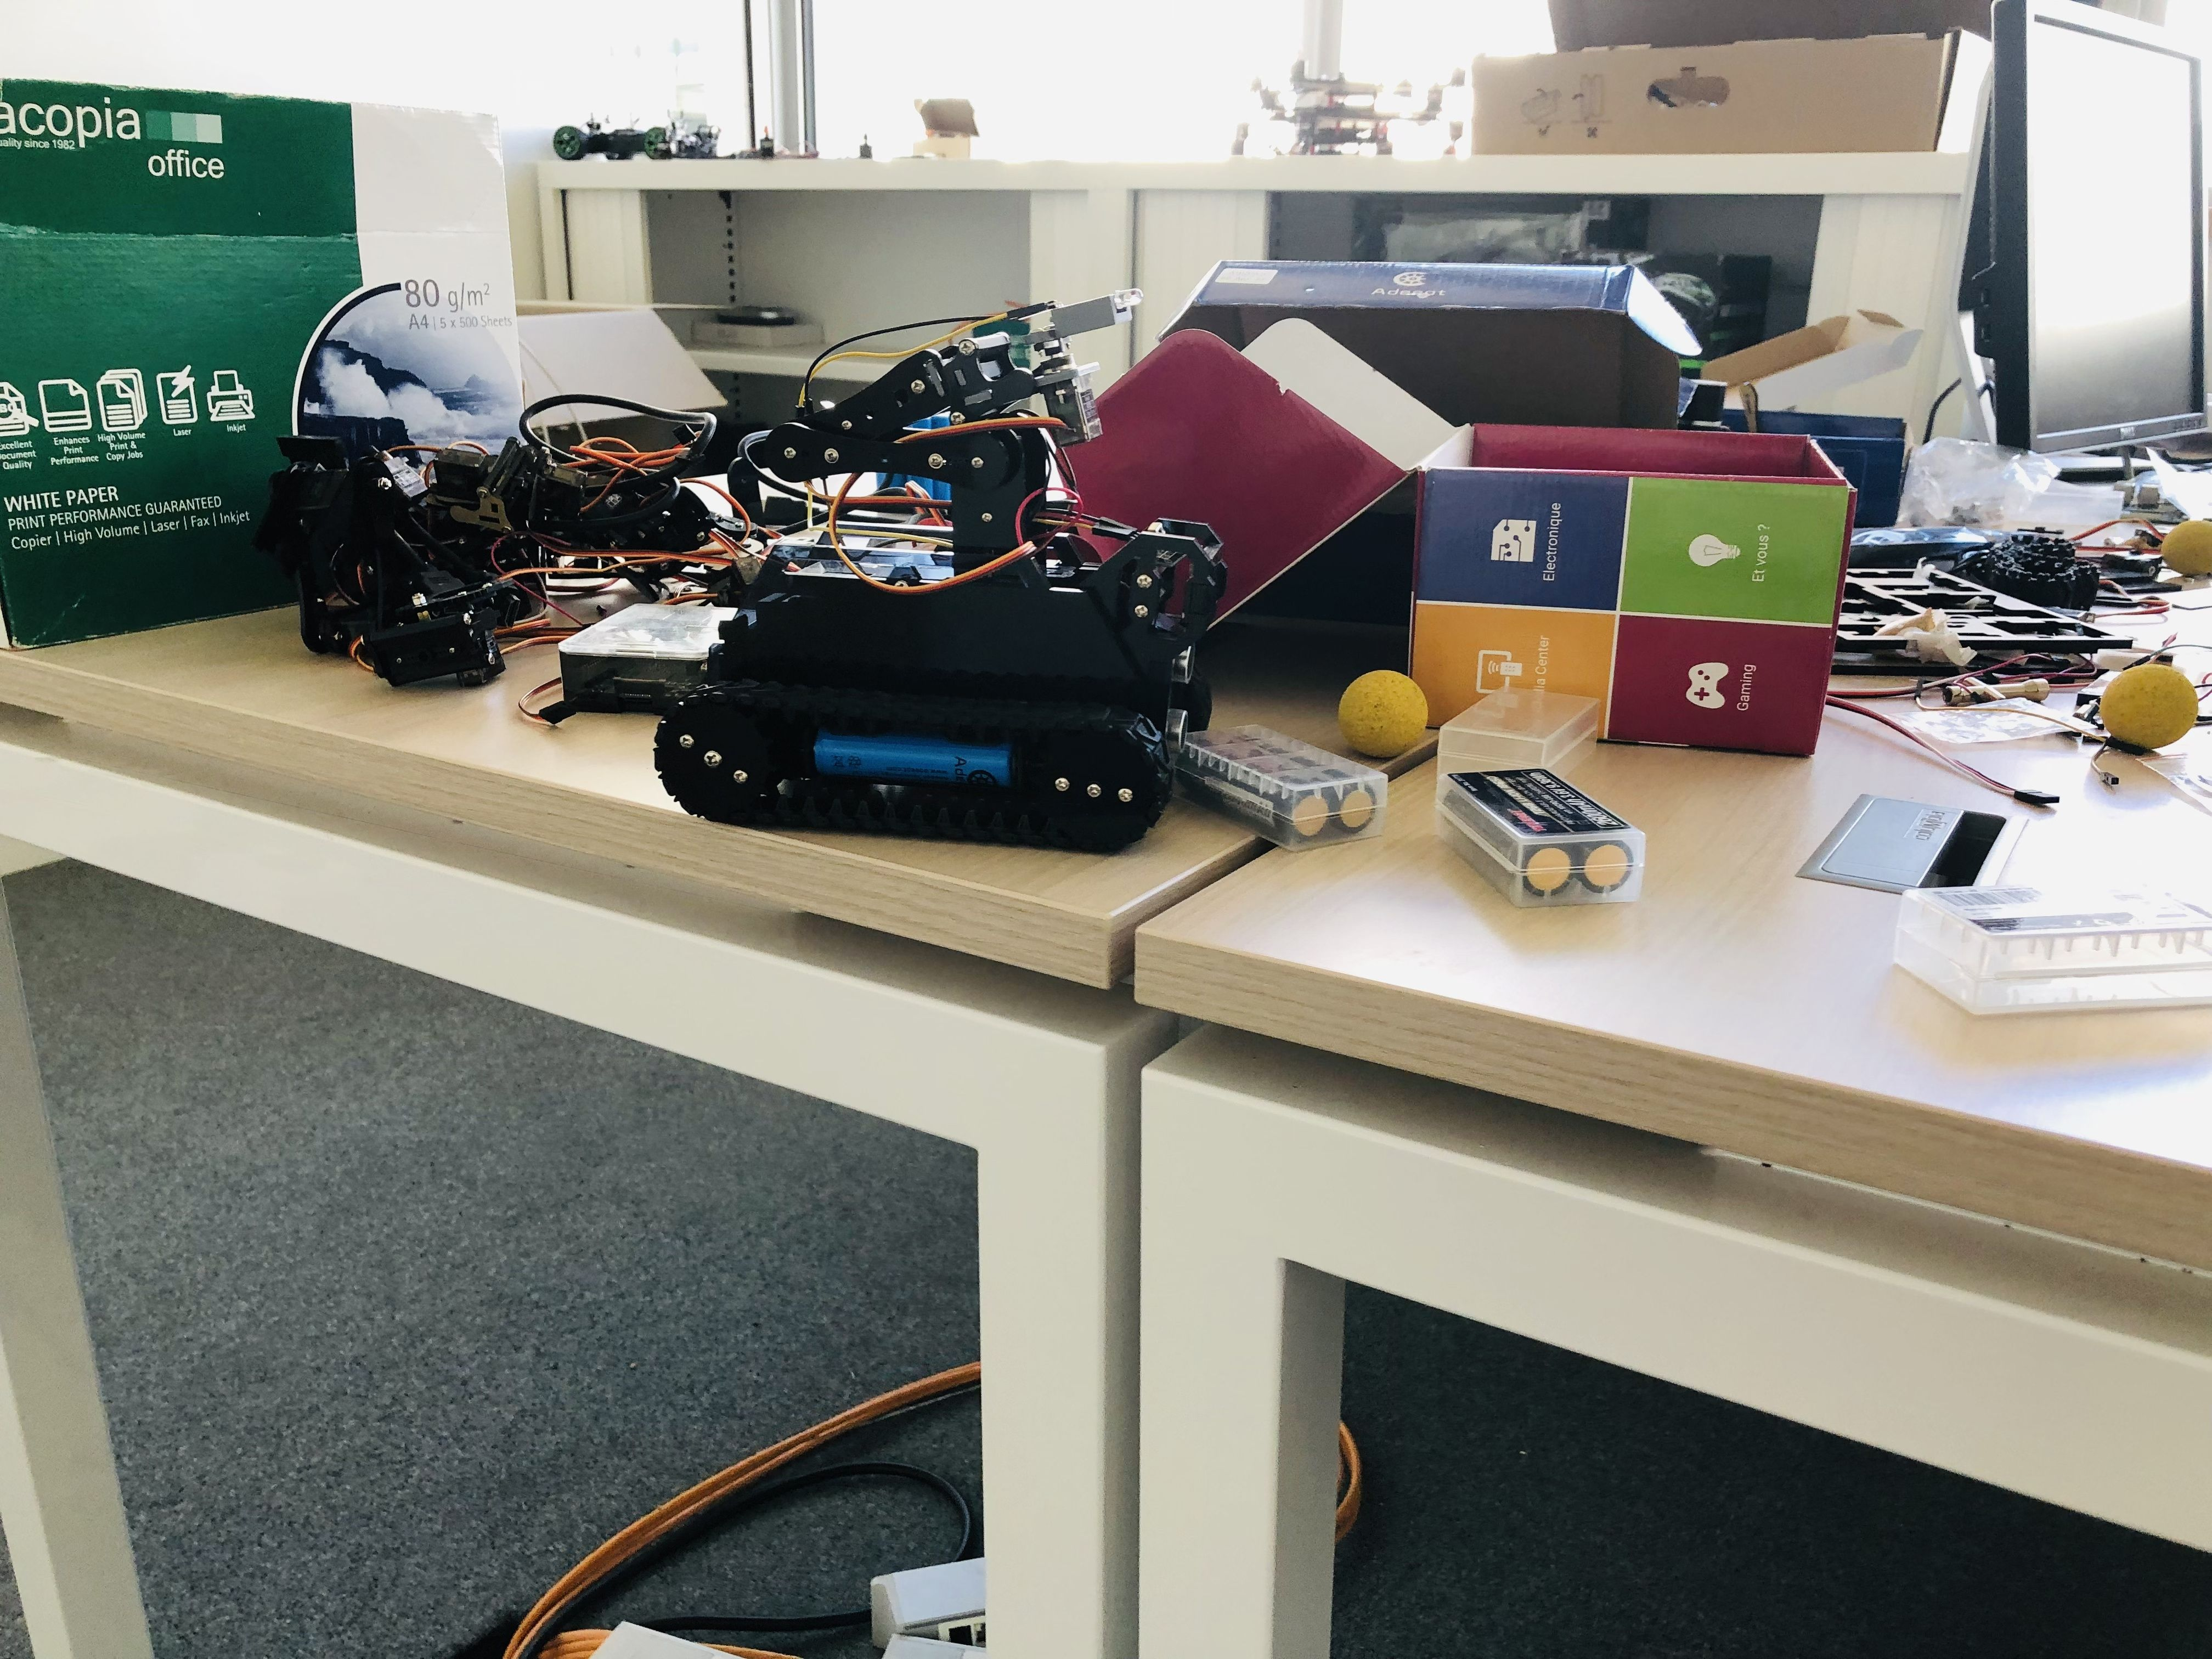rasptank: (650, 284, 1238, 838)
